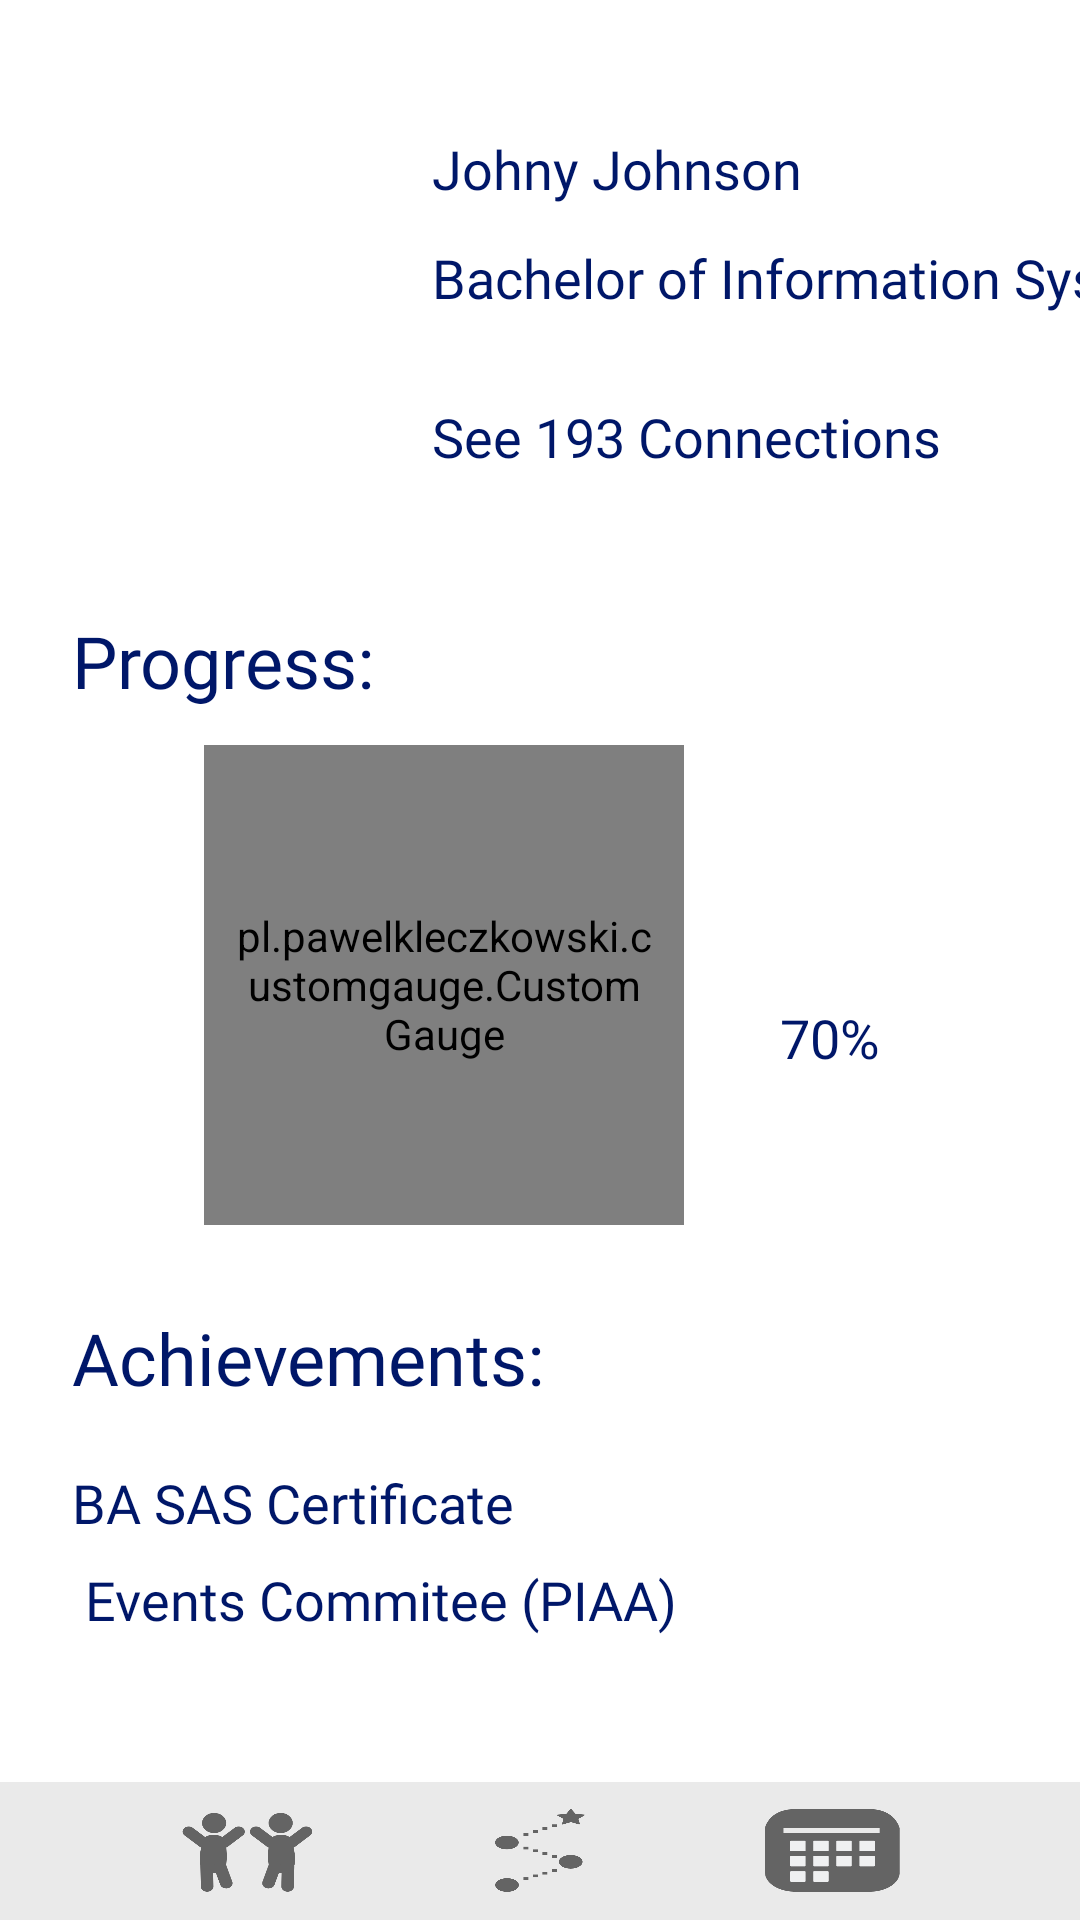

Icons on this 1080 x 1920 Android screen, each with the point to tap as [x,y]:
event: [832,1850]
friend: [247,1852]
road: [539,1850]
